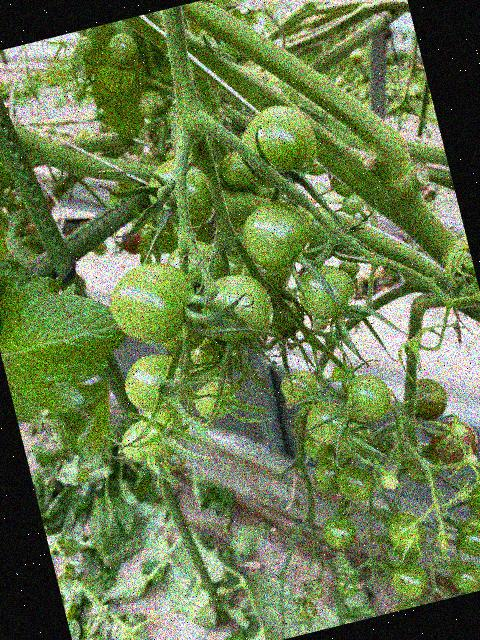l_fully_ripened: (427, 414, 480, 467)
l_green: (102, 253, 205, 352), (229, 97, 327, 196), (236, 193, 321, 279), (193, 267, 278, 350), (141, 151, 218, 237), (118, 346, 196, 419), (292, 258, 361, 324), (163, 234, 228, 300), (290, 199, 353, 267), (336, 368, 399, 428), (170, 332, 235, 387), (131, 404, 190, 461), (238, 249, 296, 302), (302, 395, 354, 450), (383, 505, 431, 557), (397, 437, 446, 487), (257, 291, 307, 340), (189, 375, 240, 423), (408, 373, 453, 424), (156, 317, 211, 358), (333, 459, 379, 506), (387, 557, 433, 603), (216, 145, 256, 194), (279, 365, 323, 409), (117, 419, 153, 467), (320, 513, 360, 552), (105, 29, 143, 70), (135, 85, 171, 122), (452, 514, 480, 560), (448, 557, 480, 596), (462, 478, 480, 529), (340, 192, 367, 217), (380, 472, 401, 491)
